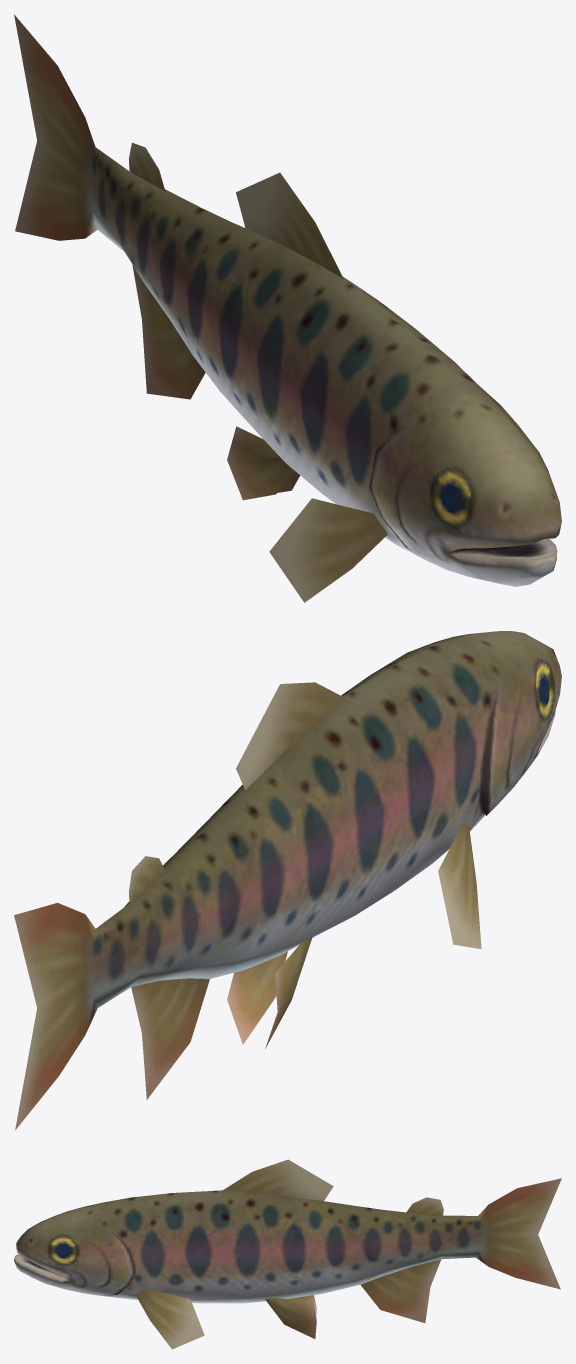
Rendered from FishYamame.glb.
The picture shows the model from 3 angles, top to bottom: view 1: azimuth 30°, elevation 25°; view 2: azimuth 150°, elevation 25°; view 3: azimuth 270°, elevation 25°; orthographic projection. The views are drawn at different scales.
Visible parts, largest first — view 1: FishYamame__mYamame; view 2: FishYamame__mYamame; view 3: FishYamame__mYamame.
Boxes of the visible parts, x1,y1,x2,y2 form: FishYamame__mYamame: (14, 14, 561, 602); FishYamame__mYamame: (14, 631, 561, 1130); FishYamame__mYamame: (14, 1159, 561, 1349).
Size of the model in its own units: 1.58 by 2.83 by 7.92.
1 material, 1 textured.
